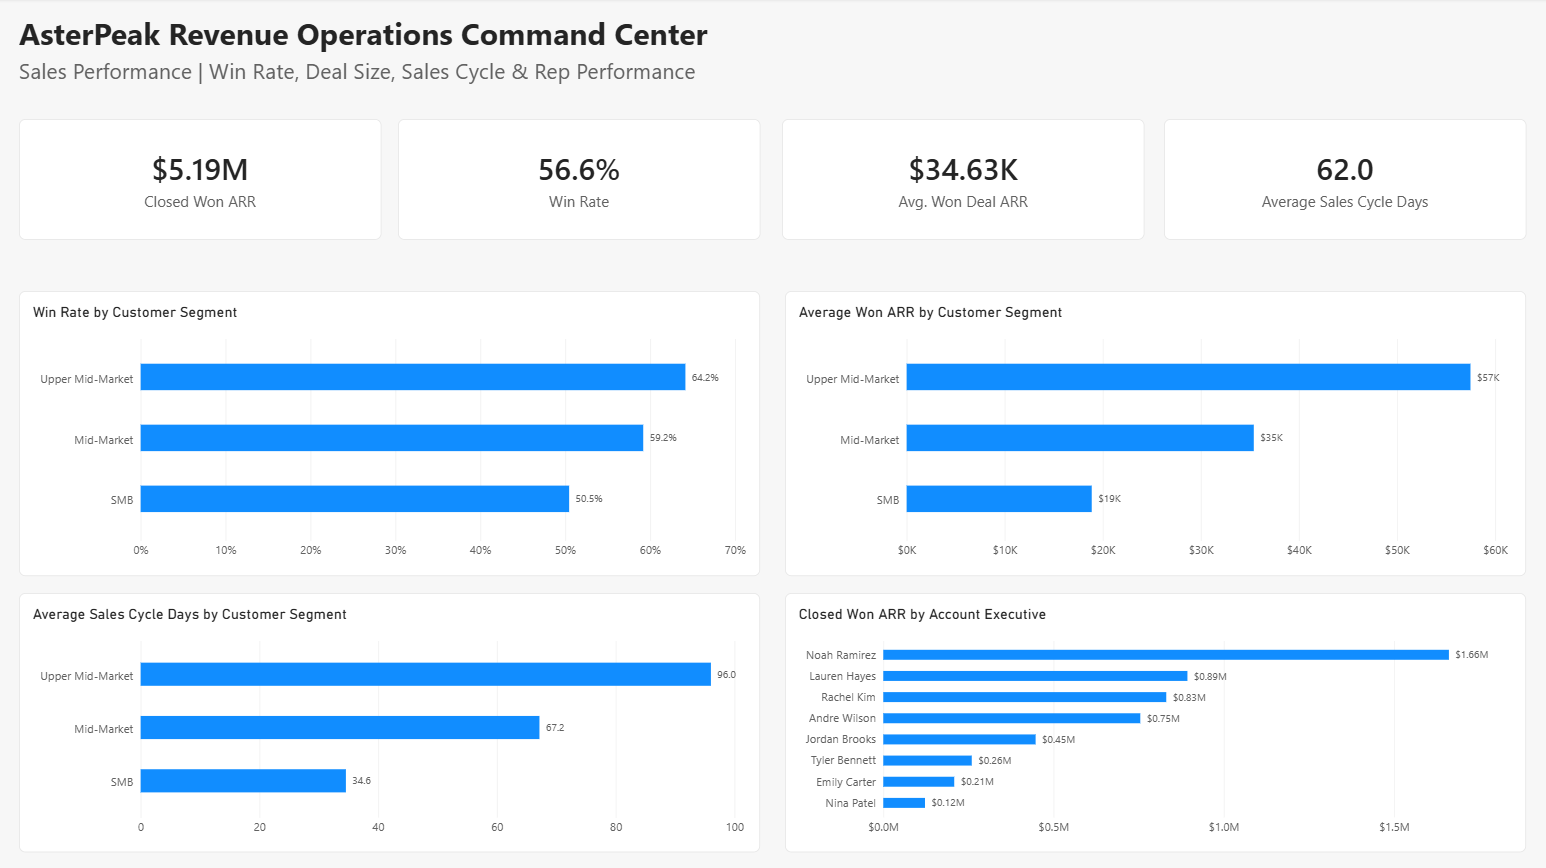

Layout of this report page (visuals, bound fields, positions):
{"tool":"powerbi","page":{"name":"Sales Performance","canvas":[1920,1080],"ordinal":2},"visuals":[{"type":"textbox","title":"AsterPeak Revenue Operations Command Center","box":[24.4,19.2,1156.9,130.7],"z":0},{"type":"card","fields":{"Values":["_Measures.Closed Won ARR"]},"box":[24.4,149.8,449.5,149.8],"z":1000},{"type":"card","fields":{"Values":["_Measures.Win Rate"]},"box":[494.8,149.8,449.5,149.8],"z":2000},{"type":"card","fields":{"Values":["_Measures.Average Sales Cycle Days"]},"box":[1446.1,149.8,449.5,149.8],"z":3000},{"type":"card","fields":{"Values":["_Measures.Average Won ARR"]},"box":[972.2,149.8,449.5,149.8],"z":4000},{"type":"clusteredBarChart","title":"Win Rate by Customer Segment","fields":{"Category":["Accounts.segment"],"Y":["_Measures.Win Rate"]},"box":[24.4,364.1,919.9,353.7],"z":5000},{"type":"clusteredBarChart","title":"Average Won ARR by Customer Segment","fields":{"Category":["Accounts.segment"],"Y":["_Measures.Average Won ARR"]},"box":[975.7,364.1,919.9,353.7],"z":6000},{"type":"clusteredBarChart","title":"Average Sales Cycle Days by Customer Segment","fields":{"Category":["Accounts.segment"],"Y":["_Measures.Average Sales Cycle Days"]},"box":[24.4,738.7,919.9,322.3],"z":7000},{"type":"clusteredBarChart","title":"Closed Won ARR by Account Executive","fields":{"Category":["Users.Account Executive"],"Y":["_Measures.Closed Won ARR"]},"box":[975.7,738.7,920,322],"z":8000}]}

Visuals, with their boxes in screenshot pixels (x1, y1, x2, y2), scaled from the page's 1920x1080 canvas onto the 1546x868 screenshot:
"AsterPeak Revenue Operations Command Center" textbox: x1=20, y1=15, x2=951, y2=120
card - _Measures.Closed Won ARR: x1=20, y1=120, x2=382, y2=241
card - _Measures.Win Rate: x1=398, y1=120, x2=760, y2=241
card - _Measures.Average Sales Cycle Days: x1=1164, y1=120, x2=1526, y2=241
card - _Measures.Average Won ARR: x1=783, y1=120, x2=1145, y2=241
"Win Rate by Customer Segment" clusteredBarChart: x1=20, y1=293, x2=760, y2=577
"Average Won ARR by Customer Segment" clusteredBarChart: x1=786, y1=293, x2=1526, y2=577
"Average Sales Cycle Days by Customer Segment" clusteredBarChart: x1=20, y1=594, x2=760, y2=853
"Closed Won ARR by Account Executive" clusteredBarChart: x1=786, y1=594, x2=1526, y2=852
